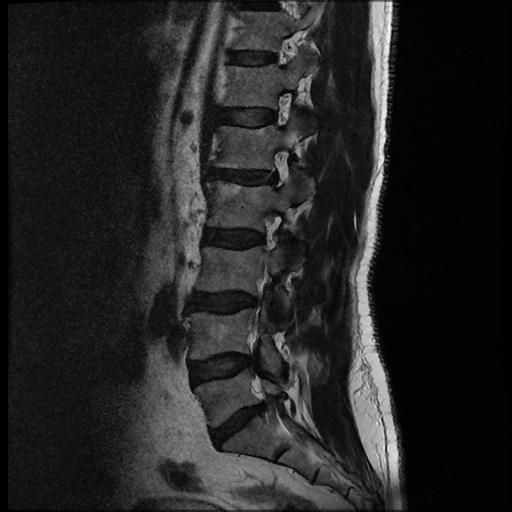RFS0: (247, 203, 290, 257), (259, 141, 295, 196)
